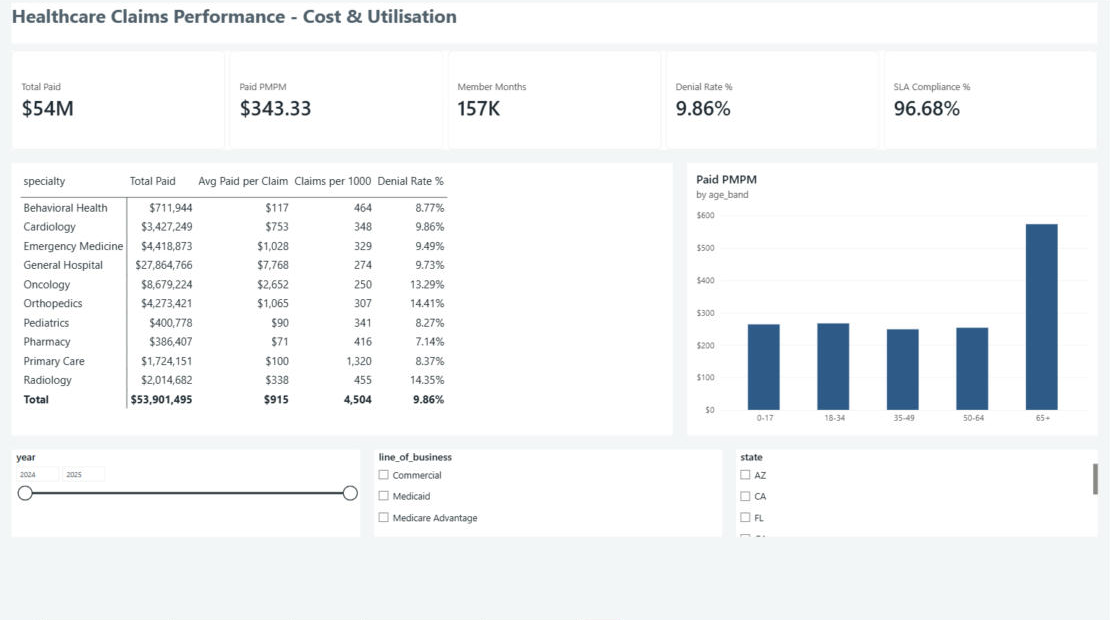

The dashboard page shown, as its layout file describes it:
{"tool":"powerbi","page":{"name":"Cost & Utilisation","canvas":[1920,1080],"ordinal":1},"visuals":[{"type":"cardVisual","fields":{"Data":["_Measures.Total Paid","_Measures.Paid PMPM","_Measures.Member Months","_Measures.Denial Rate %","_Measures.SLA Compliance %"]},"box":[24,96,1872,170],"z":0},{"type":"slicer","fields":{"Values":["dim_date.year"]},"box":[24,784,600,150],"z":3000},{"type":"slicer","fields":{"Values":["dim_plan.line_of_business"]},"box":[648,784,600,150],"z":4000},{"type":"slicer","fields":{"Values":["dim_member.state"]},"box":[1272,784,624,150],"z":5000},{"type":"textbox","box":[24,14,1872,70],"z":6000},{"type":"pivotTable","fields":{"Rows":["dim_provider.specialty"],"Values":["_Measures.Total Paid","_Measures.Avg Paid per Claim","_Measures.Claims per 1000","_Measures.Denial Rate %"]},"box":[24,290,1140,470],"z":6001},{"type":"clusteredColumnChart","fields":{"Category":["dim_member.age_band"],"Y":["_Measures.Paid PMPM"]},"box":[1188,290,708,470],"z":6002}]}

Visuals, with their boxes in screenshot pixels (x1, y1, x2, y2), scaled from the page's 1920x1080 canvas onto the 1110x620 screenshot:
cardVisual - _Measures.Total Paid x _Measures.Paid PMPM: locate(14, 55, 1096, 153)
slicer - dim_date.year: locate(14, 450, 361, 536)
slicer - dim_plan.line_of_business: locate(375, 450, 722, 536)
slicer - dim_member.state: locate(735, 450, 1096, 536)
textbox: locate(14, 8, 1096, 48)
pivotTable - dim_provider.specialty x _Measures.Total Paid: locate(14, 166, 673, 436)
clusteredColumnChart - dim_member.age_band x _Measures.Paid PMPM: locate(687, 166, 1096, 436)
